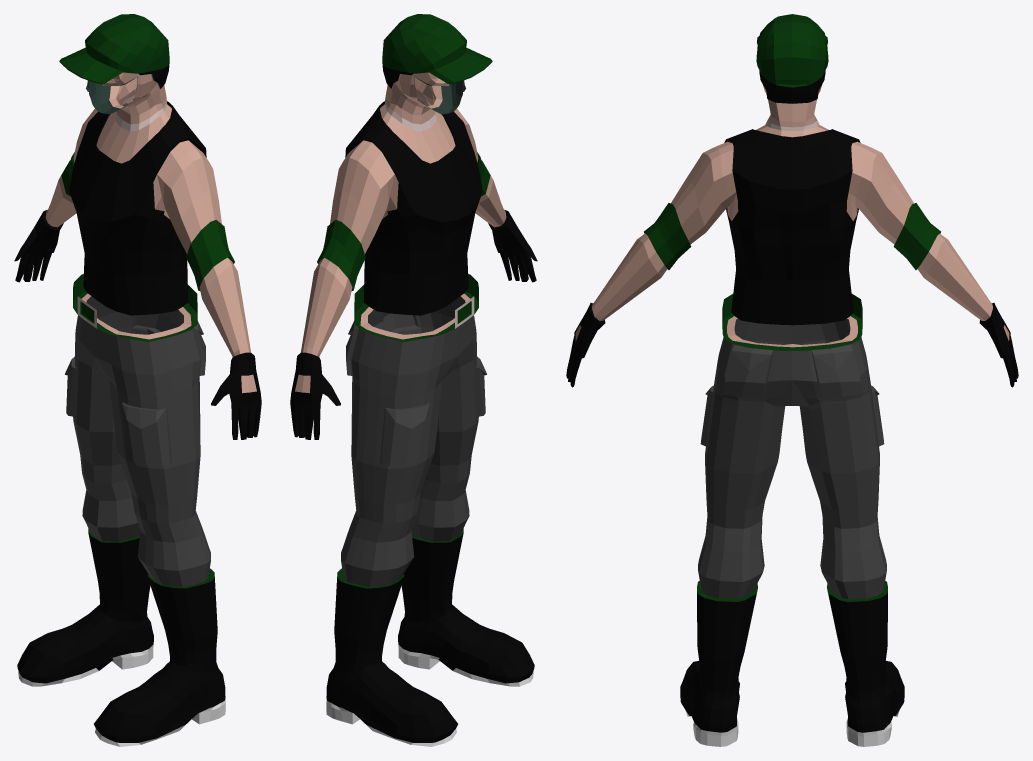
File: LowPolyCharacter2.fbx
3 views of the same model, side by side, from view 1: azimuth 30°, elevation 25°; view 2: azimuth 150°, elevation 25°; view 3: azimuth 270°, elevation 25° (orthographic). The views are drawn at different scales.
Visible parts, largest first — view 1: Plane.007, Plane.008, Plane.001, Plane, Plane.003, Plane.005, Plane.002, Plane.006, Plane.004; view 2: Plane.007, Plane.008, Plane.001, Plane, Plane.003, Plane.005, Plane.002, Plane.006, Plane.004; view 3: Plane.007, Plane.001, Plane, Plane.008, Plane.003, Plane.002, Plane.005, Plane.006.
Boxes of the visible parts, x1,y1,x2,y2 form: Plane.007: (65, 296, 210, 587); Plane.008: (17, 528, 225, 746); Plane.001: (69, 99, 206, 315); Plane: (45, 63, 251, 356); Plane.003: (59, 14, 169, 84); Plane.005: (14, 210, 261, 439); Plane.002: (61, 152, 234, 290); Plane.006: (73, 274, 197, 341); Plane.004: (86, 77, 137, 114); Plane.007: (341, 296, 486, 587); Plane.008: (326, 528, 534, 746); Plane.001: (345, 99, 482, 315); Plane: (300, 63, 506, 356); Plane.003: (382, 14, 492, 84); Plane.005: (290, 210, 537, 439); Plane.002: (317, 152, 490, 290); Plane.006: (354, 274, 478, 341); Plane.004: (414, 77, 465, 114); Plane.007: (698, 318, 886, 599); Plane.001: (724, 129, 860, 325); Plane: (592, 70, 992, 347); Plane.008: (680, 581, 904, 746); Plane.003: (756, 14, 828, 87); Plane.002: (644, 203, 940, 269); Plane.005: (566, 303, 1018, 387); Plane.006: (722, 294, 862, 350).
Bounding box in the file's own units: 52.55 × 259 × 152.
